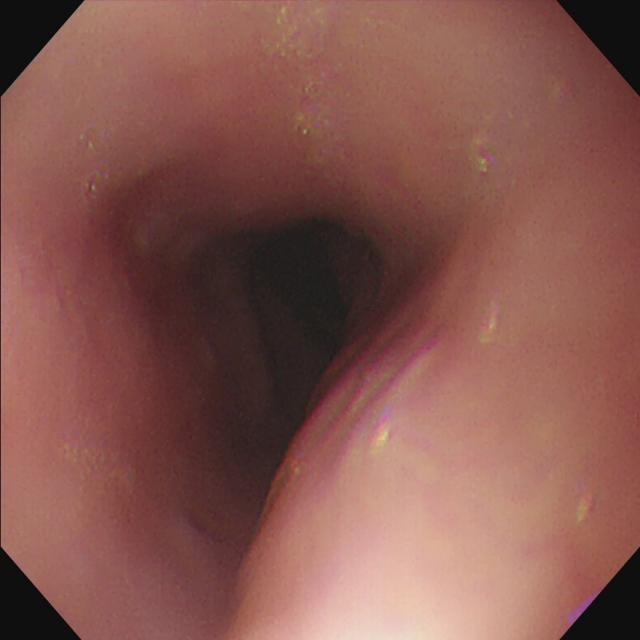E: (245, 237, 348, 376)
